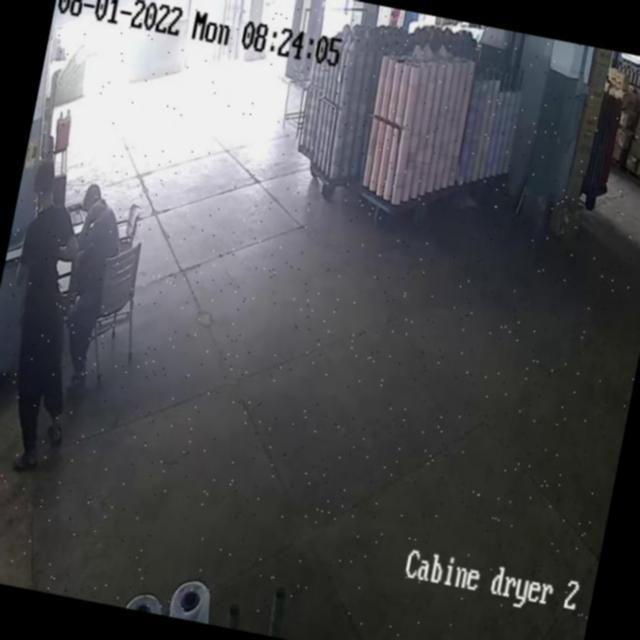person: (0, 170, 111, 443), (56, 174, 136, 359)
